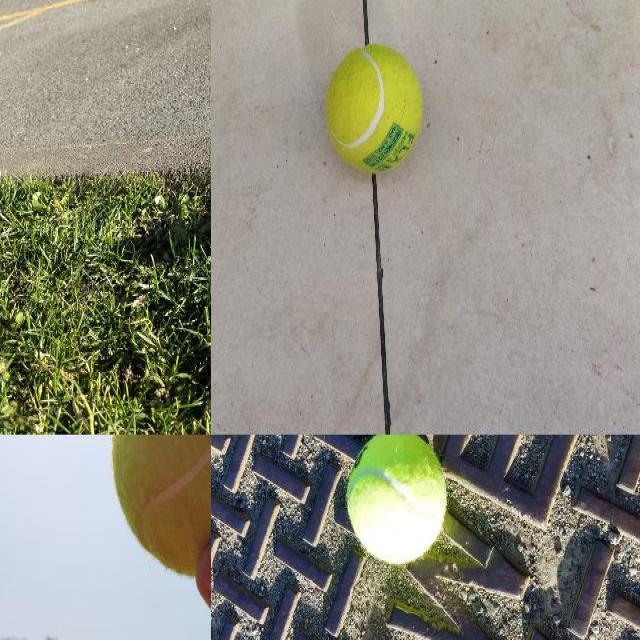tennis-ball: (110, 434, 210, 578), (345, 434, 447, 566), (325, 43, 423, 173)
